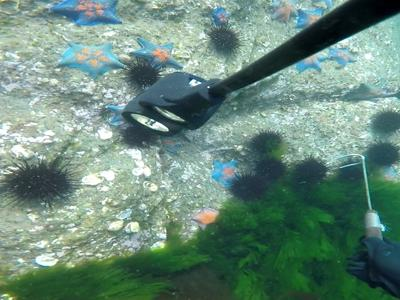urchin: (13, 162, 69, 201), (247, 133, 282, 154), (128, 61, 155, 88), (369, 143, 397, 169), (232, 177, 265, 199), (296, 161, 325, 186), (208, 26, 236, 50), (123, 125, 152, 148), (254, 159, 285, 178), (369, 112, 395, 132)
